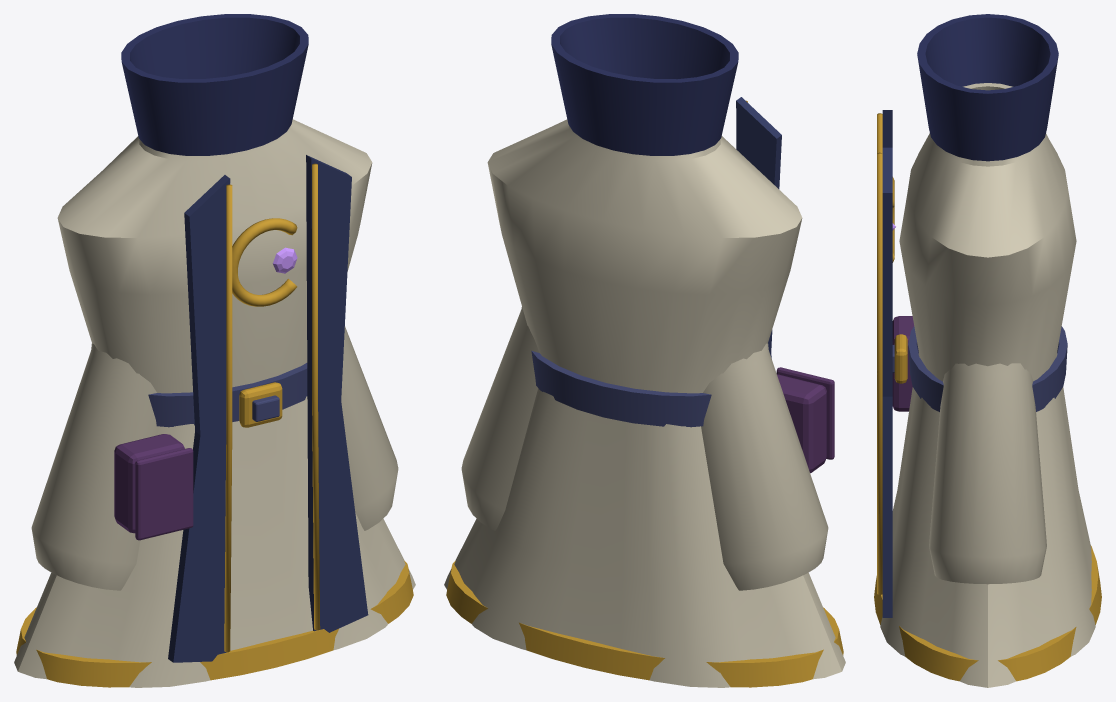
The model's file is robe_sage.fbx.
3 renders of one model, left to right at view 1: azimuth 30°, elevation 25°; view 2: azimuth 150°, elevation 25°; view 3: azimuth 270°, elevation 25°, orthographic. The views are drawn at different scales.
Parts seen in each view (by area): view 1: robe_sage; view 2: robe_sage; view 3: robe_sage.
Boxes of the visible parts, bbox=[...] form: robe_sage: bbox=[14, 14, 415, 687]; robe_sage: bbox=[444, 14, 845, 687]; robe_sage: bbox=[874, 14, 1101, 687].
Bounding box in the file's own units: 0.728 × 1.01 × 0.386.
